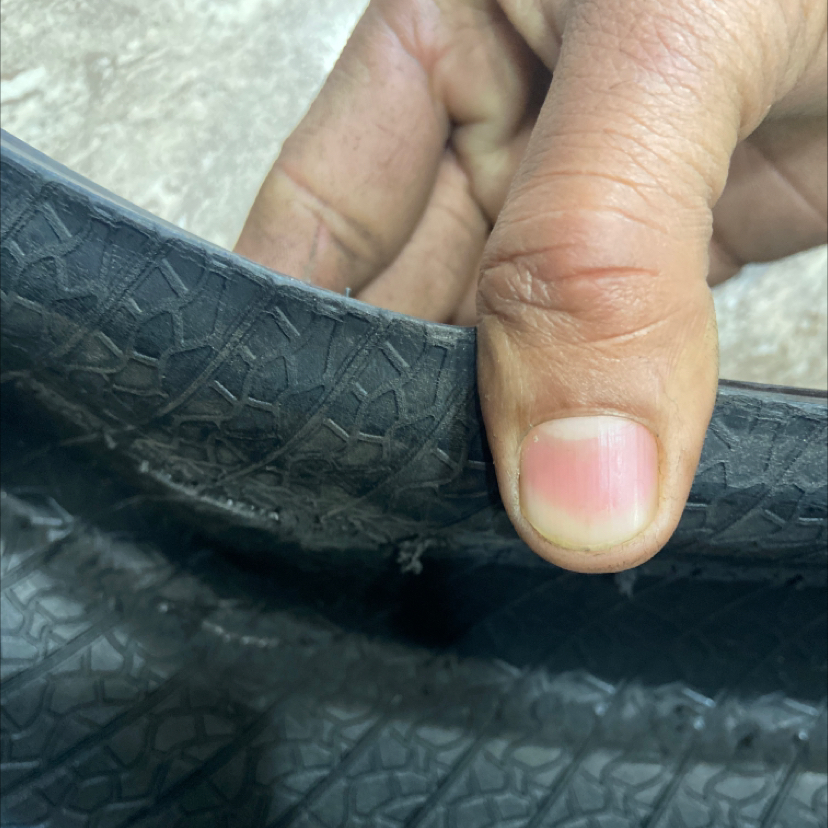cut: (142, 465, 293, 529)
